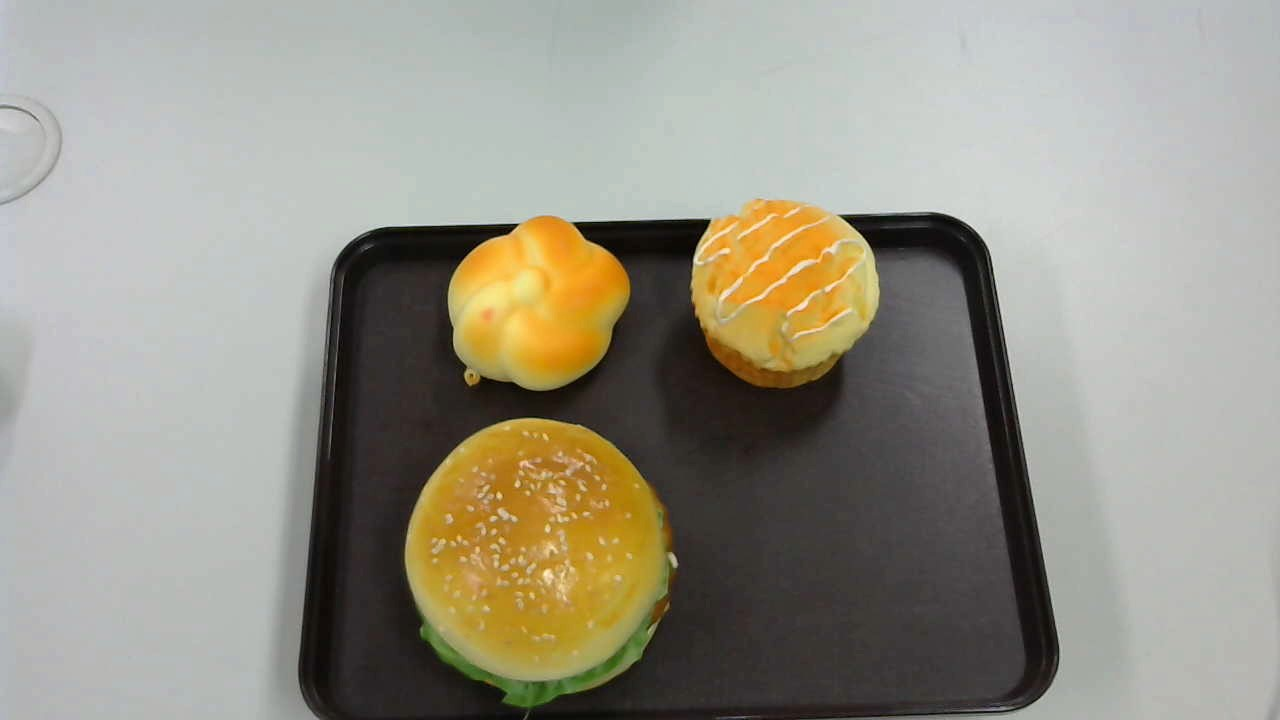cupcake: (690, 199, 880, 389)
hamburger: (404, 419, 678, 707)
twist bread: (447, 215, 630, 389)
